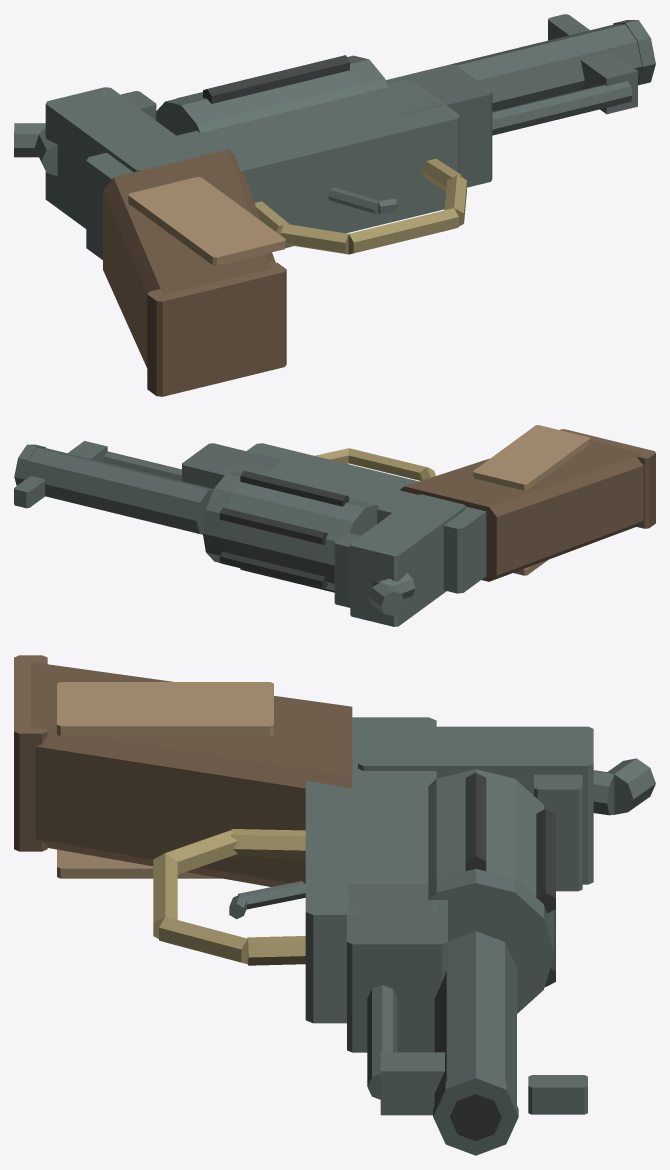
File: weapon-colt-1849.glb
3 renders of one model, top to bottom at view 1: azimuth 30°, elevation 25°; view 2: azimuth 150°, elevation 25°; view 3: azimuth 270°, elevation 25°, orthographic. The views are drawn at different scales.
Parts seen in each view (by area): view 1: weapon-colt-1849/lower-frame, weapon-colt-1849/eight-sided-wood-grip-heel, weapon-colt-1849/eight-sided-wood-grip, weapon-colt-1849/frame-rear, weapon-colt-1849/barrel, weapon-colt-1849/grip-plaque-left, weapon-colt-1849/fluted-cylinder, weapon-colt-1849/open-frame-barrel-lug, weapon-colt-1849/under-barrel-rod, weapon-colt-1849/cylinder-long-flute-3, weapon-colt-1849/hollow-trigger-guard-4, weapon-colt-1849/rod-front-lug (+8 smaller); view 2: weapon-colt-1849/eight-sided-wood-grip, weapon-colt-1849/fluted-cylinder, weapon-colt-1849/frame-rear, weapon-colt-1849/lower-frame, weapon-colt-1849/barrel, weapon-colt-1849/grip-plaque-left, weapon-colt-1849/open-frame-barrel-lug, weapon-colt-1849/eight-sided-wood-grip-heel, weapon-colt-1849/cylinder-long-flute-2, weapon-colt-1849/cylinder-long-flute-1, weapon-colt-1849/cylinder-long-flute-3, weapon-colt-1849/rear-sight (+7 smaller); view 3: weapon-colt-1849/eight-sided-wood-grip, weapon-colt-1849/lower-frame, weapon-colt-1849/fluted-cylinder, weapon-colt-1849/open-frame-barrel-lug, weapon-colt-1849/frame-rear, weapon-colt-1849/grip-plaque-left, weapon-colt-1849/barrel, weapon-colt-1849/eight-sided-wood-grip-heel, weapon-colt-1849/rear-sight, weapon-colt-1849/rod-front-lug, weapon-colt-1849/barrel-end-rim, weapon-colt-1849/under-barrel-rod (+13 smaller).
Boxes of the visible parts, <box> form: weapon-colt-1849/lower-frame: <box>86,80,459,259</box>; weapon-colt-1849/eight-sided-wood-grip-heel: <box>147,262,286,396</box>; weapon-colt-1849/eight-sided-wood-grip: <box>103,149,275,367</box>; weapon-colt-1849/frame-rear: <box>45,87,201,228</box>; weapon-colt-1849/barrel: <box>450,24,642,111</box>; weapon-colt-1849/grip-plaque-left: <box>128,177,285,265</box>; weapon-colt-1849/fluted-cylinder: <box>156,55,388,135</box>; weapon-colt-1849/open-frame-barrel-lug: <box>386,64,492,187</box>; weapon-colt-1849/under-barrel-rod: <box>492,81,632,135</box>; weapon-colt-1849/cylinder-long-flute-3: <box>203,55,349,103</box>; weapon-colt-1849/hollow-trigger-guard-4: <box>348,208,458,254</box>; weapon-colt-1849/rod-front-lug: <box>580,52,637,114</box>; weapon-colt-1849/eight-sided-wood-grip: <box>400,440,643,581</box>; weapon-colt-1849/fluted-cylinder: <box>202,471,379,590</box>; weapon-colt-1849/frame-rear: <box>350,494,465,626</box>; weapon-colt-1849/lower-frame: <box>222,443,486,593</box>; weapon-colt-1849/barrel: <box>24,447,213,534</box>; weapon-colt-1849/grip-plaque-left: <box>473,425,589,490</box>; weapon-colt-1849/open-frame-barrel-lug: <box>182,443,281,534</box>; weapon-colt-1849/eight-sided-wood-grip-heel: <box>560,429,655,528</box>; weapon-colt-1849/cylinder-long-flute-2: <box>219,507,327,545</box>; weapon-colt-1849/cylinder-long-flute-1: <box>219,551,327,588</box>; weapon-colt-1849/cylinder-long-flute-3: <box>240,470,348,506</box>; weapon-colt-1849/rear-sight: <box>334,533,360,607</box>; weapon-colt-1849/eight-sided-wood-grip: <box>30,662,352,886</box>; weapon-colt-1849/lower-frame: <box>305,717,436,1023</box>; weapon-colt-1849/fluted-cylinder: <box>428,769,554,1013</box>; weapon-colt-1849/open-frame-barrel-lug: <box>347,884,447,1052</box>; weapon-colt-1849/frame-rear: <box>358,726,593,884</box>; weapon-colt-1849/grip-plaque-left: <box>57,682,273,736</box>; weapon-colt-1849/barrel: <box>434,931,516,1104</box>; weapon-colt-1849/eight-sided-wood-grip-heel: <box>14,655,47,851</box>; weapon-colt-1849/rear-sight: <box>534,774,582,891</box>; weapon-colt-1849/rod-front-lug: <box>380,1052,444,1115</box>; weapon-colt-1849/barrel-end-rim: <box>433,1070,518,1155</box>; weapon-colt-1849/under-barrel-rod: <box>367,985,397,1099</box>.
Size of the model in its own units: 0.2554 by 0.0494 by 0.1716.
Materials: 5 (5 with a texture image).
